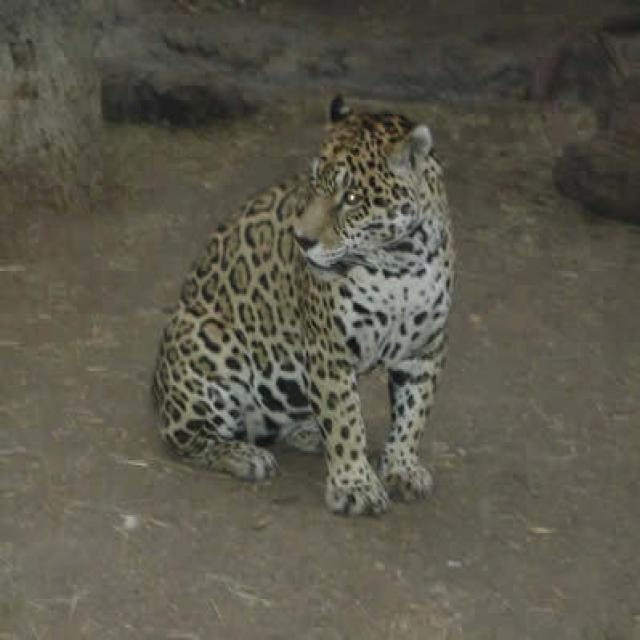Leopard: (151, 91, 452, 515)
